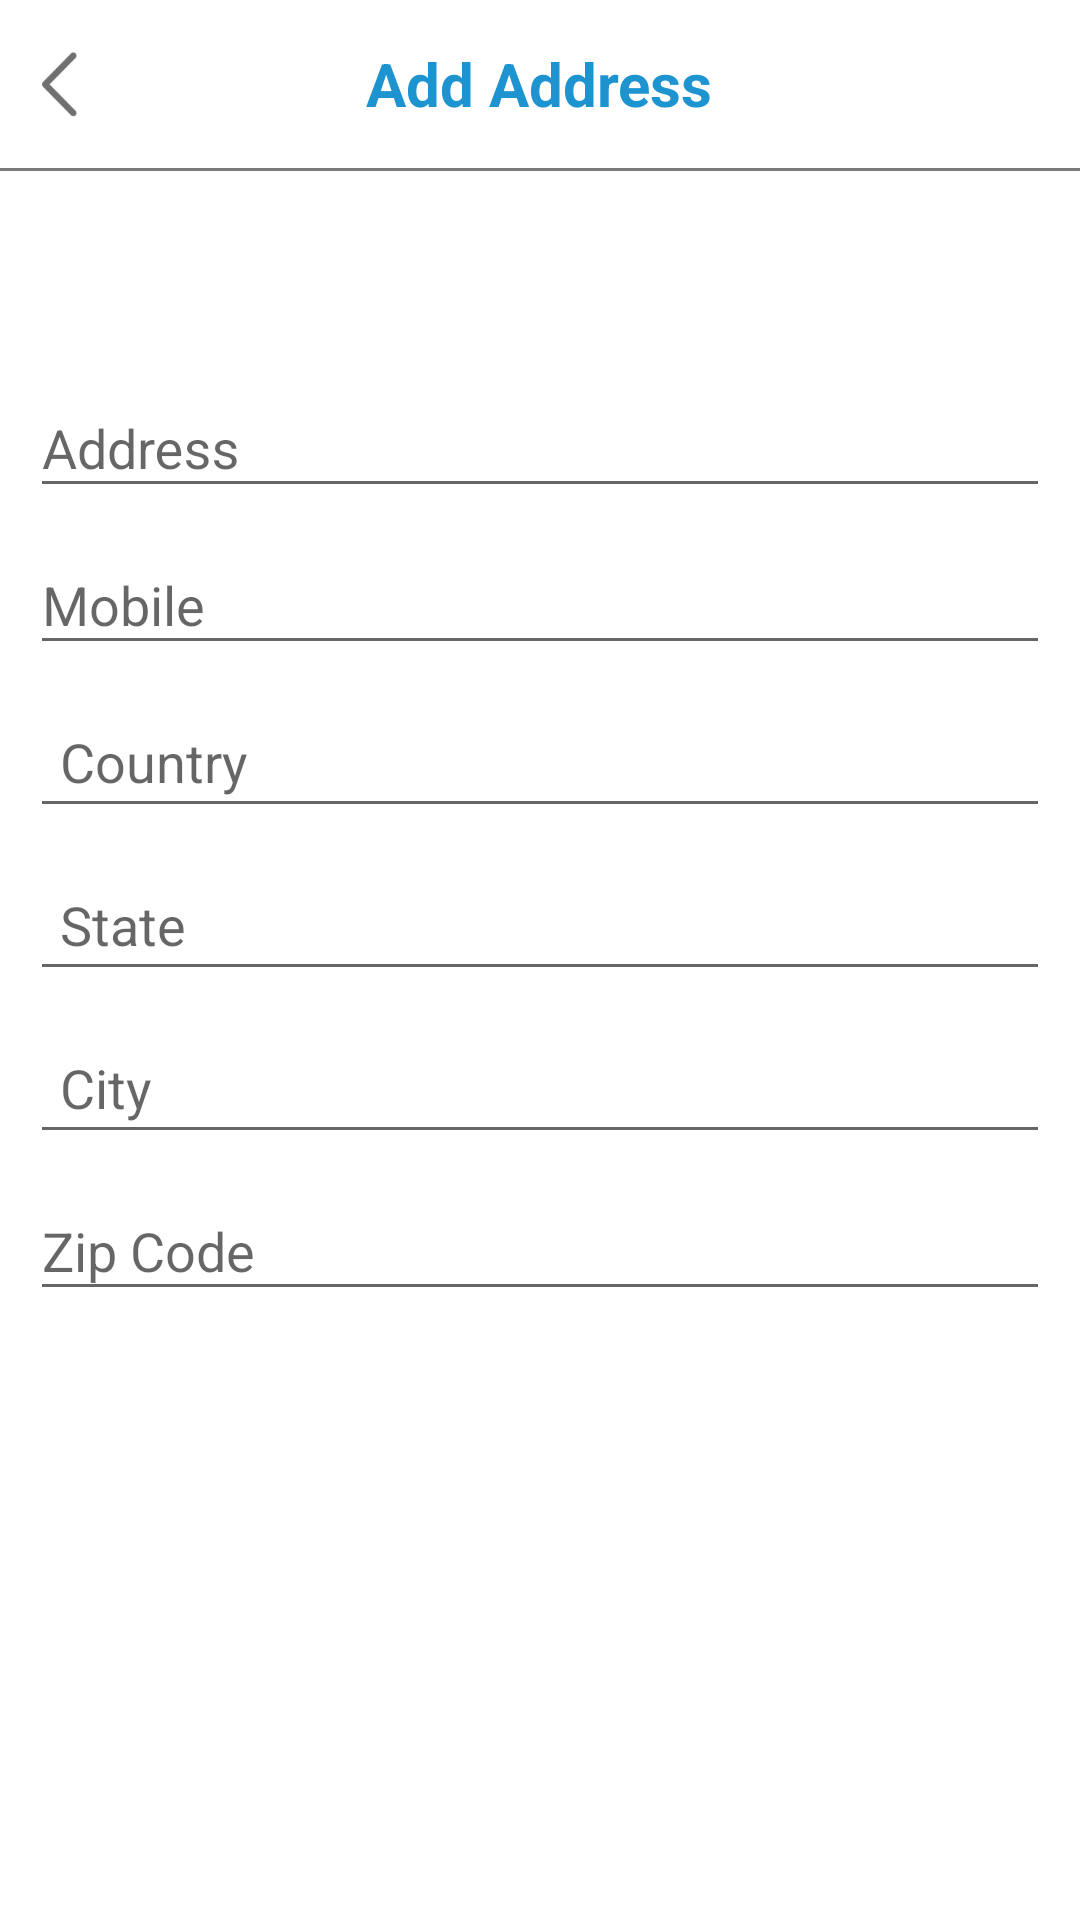

Locate icon controls on the screen. Image size 1080 x 1920, boxes as (x1, y1, x2, y2).
back: (42, 52, 77, 116)
